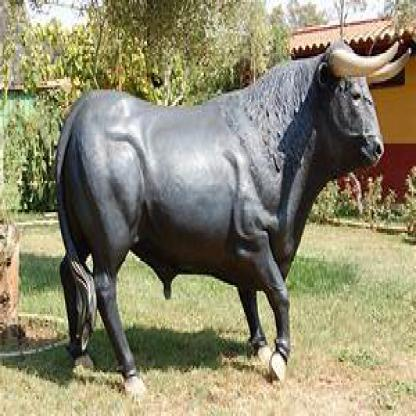cow: (51, 40, 409, 395)
